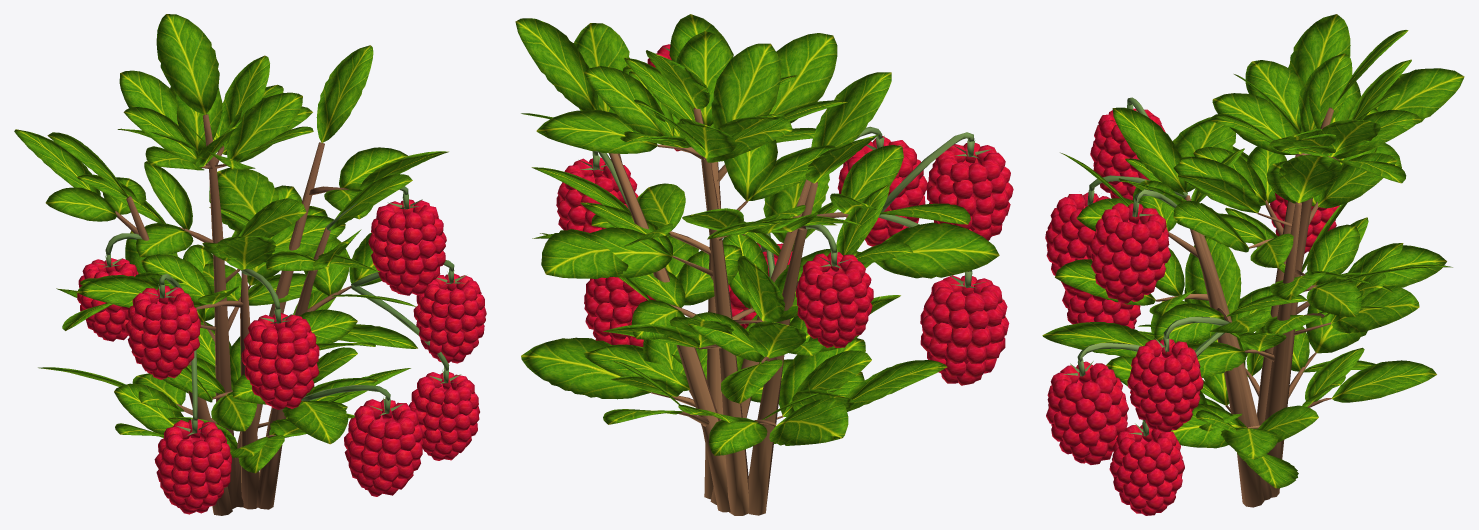
File: NP_Raspberry_Ready.fbx
The picture shows the model from 3 angles, left to right: view 1: azimuth 30°, elevation 25°; view 2: azimuth 150°, elevation 25°; view 3: azimuth 270°, elevation 25°; orthographic projection. The views are drawn at different scales.
Visible parts, largest first — view 1: NP_Raspberry_Ready; view 2: NP_Raspberry_Ready; view 3: NP_Raspberry_Ready.
Part boxes in pixels (x1,y1,x2,y2): NP_Raspberry_Ready: [14, 14, 486, 515]; NP_Raspberry_Ready: [515, 14, 1013, 515]; NP_Raspberry_Ready: [1042, 14, 1464, 515].
Size of the model in its own units: 80.47 by 85.72 by 71.13.
